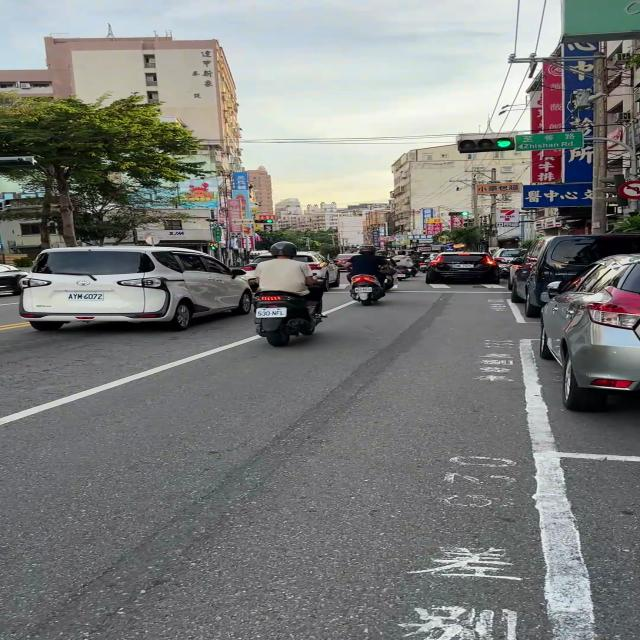car: (18, 246, 249, 330), (536, 254, 640, 411), (510, 234, 640, 318), (426, 252, 496, 282)
crosswalk: (392, 283, 508, 289)
motocycle: (254, 291, 320, 346), (351, 275, 385, 305)
